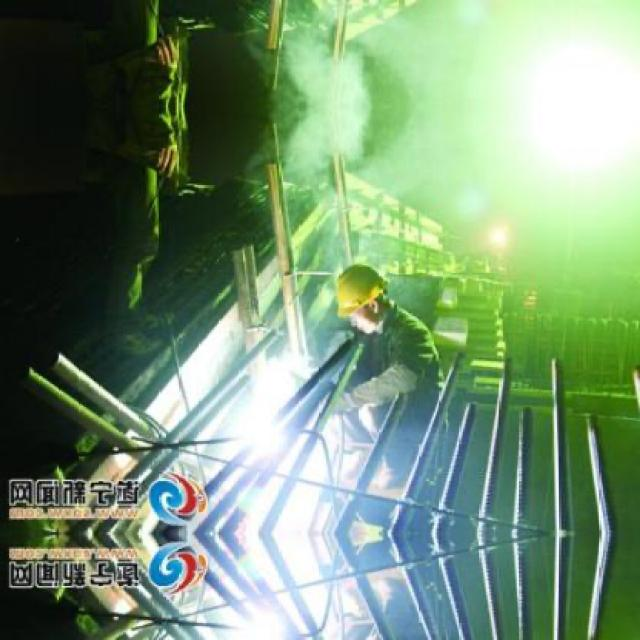helmet: (328, 254, 392, 324)
